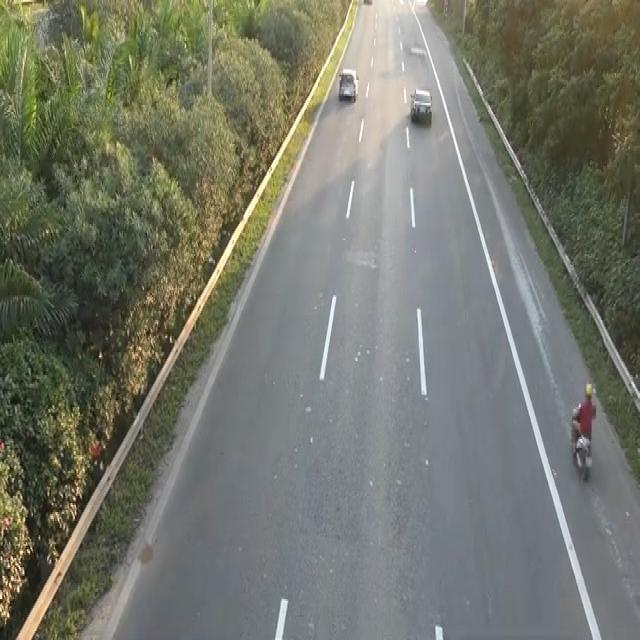bus: (408, 84, 436, 130), (337, 66, 359, 103)
minibus: (569, 404, 593, 482)
